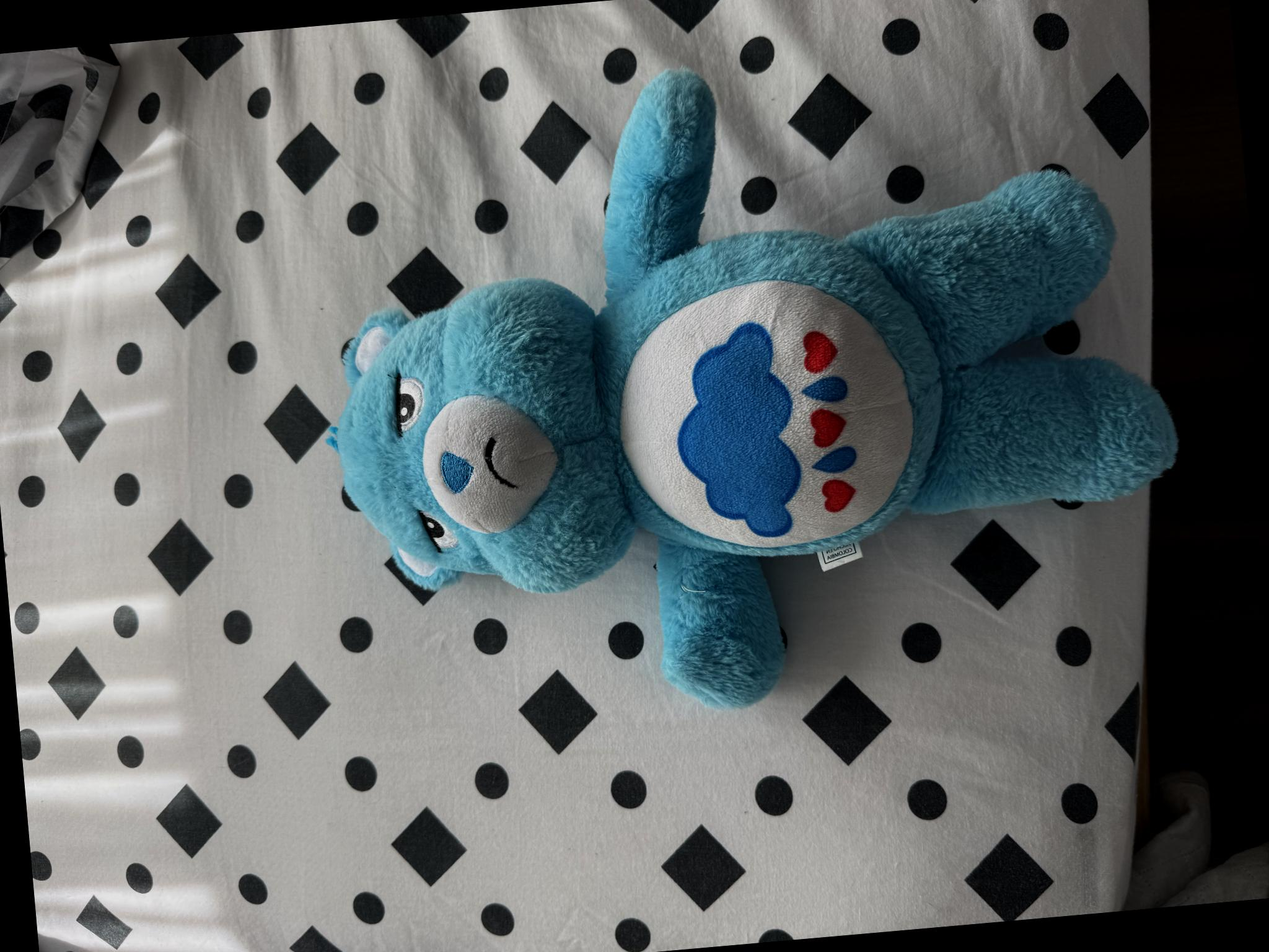peluche_Juan Jose: (308, 24, 1191, 738)
